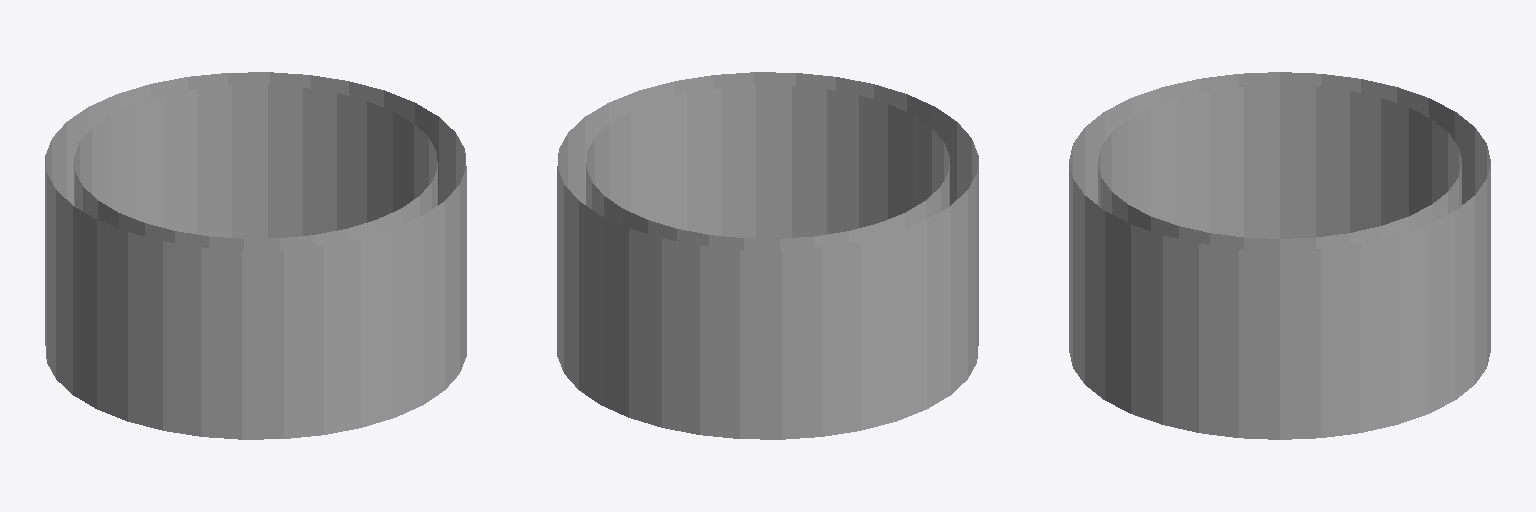
Rendered from warp_pipe_single.obj.
3 renders of one model, left to right at view 1: azimuth 30°, elevation 25°; view 2: azimuth 150°, elevation 25°; view 3: azimuth 270°, elevation 25°, orthographic.
Parts seen in each view (by area): view 1: Cylinder.001; view 2: Cylinder.001; view 3: Cylinder.001.
Boxes of the visible parts, x1,y1,x2,y2 form: Cylinder.001: [45, 72, 466, 439]; Cylinder.001: [557, 72, 978, 439]; Cylinder.001: [1069, 72, 1490, 439].
Bounding box in the file's own units: 4 × 1.98 × 4.